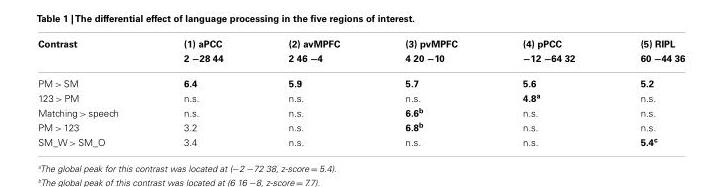table: (37, 37, 684, 147)
table column: (371, 37, 489, 147), (489, 37, 606, 147), (255, 37, 371, 147), (37, 37, 150, 147), (150, 37, 255, 147), (606, 37, 684, 147)
table column header: (37, 37, 684, 73)
table row: (37, 50, 684, 73), (37, 73, 684, 89), (37, 89, 684, 104), (37, 104, 684, 119), (37, 119, 684, 133), (37, 133, 684, 147), (37, 37, 684, 50)
table spanning cell: (371, 37, 489, 73), (489, 37, 606, 73), (255, 37, 371, 73), (37, 37, 150, 73), (150, 37, 255, 73), (606, 37, 684, 73)
